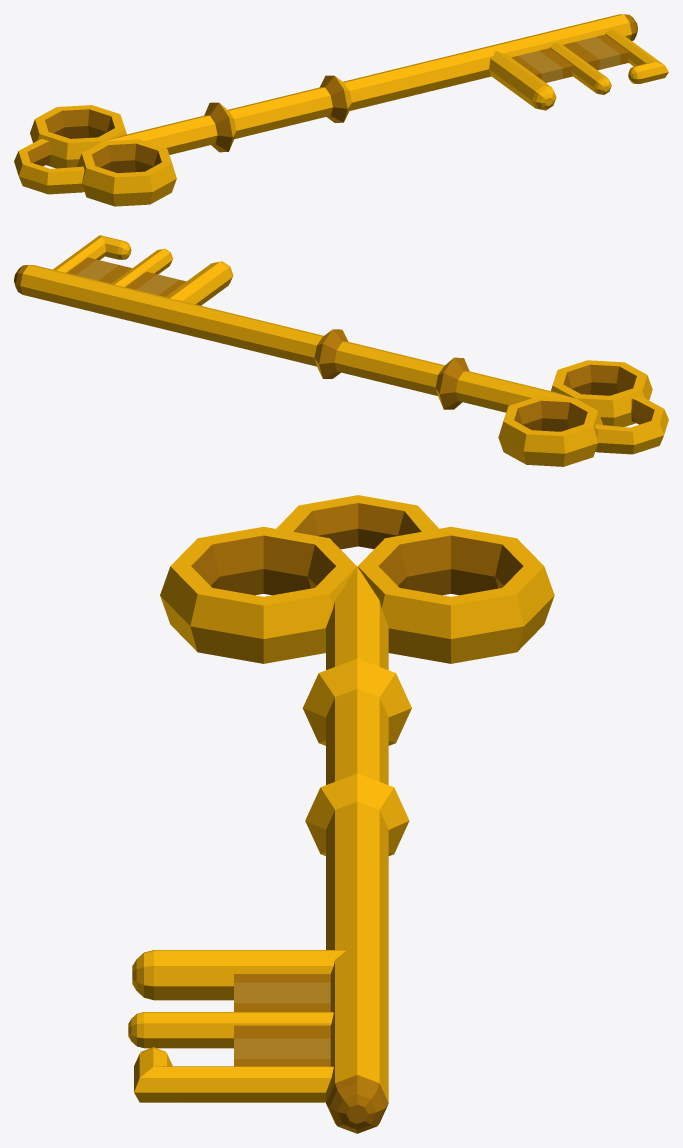
Rendered from Key.glb.
3 views of the same model, one above another, from view 1: azimuth 30°, elevation 25°; view 2: azimuth 150°, elevation 25°; view 3: azimuth 270°, elevation 25° (orthographic). The views are drawn at different scales.
Parts seen in each view (by area): view 1: Key; view 2: Key; view 3: Key.
Boxes of the visible parts, x1,y1,x2,y2 form: Key: [14, 14, 668, 206]; Key: [14, 235, 668, 466]; Key: [128, 495, 554, 1133].
Size of what is drawn, in the model's own units: 0.5478 by 0.0421 by 0.1641.
1 material, 1 textured.
